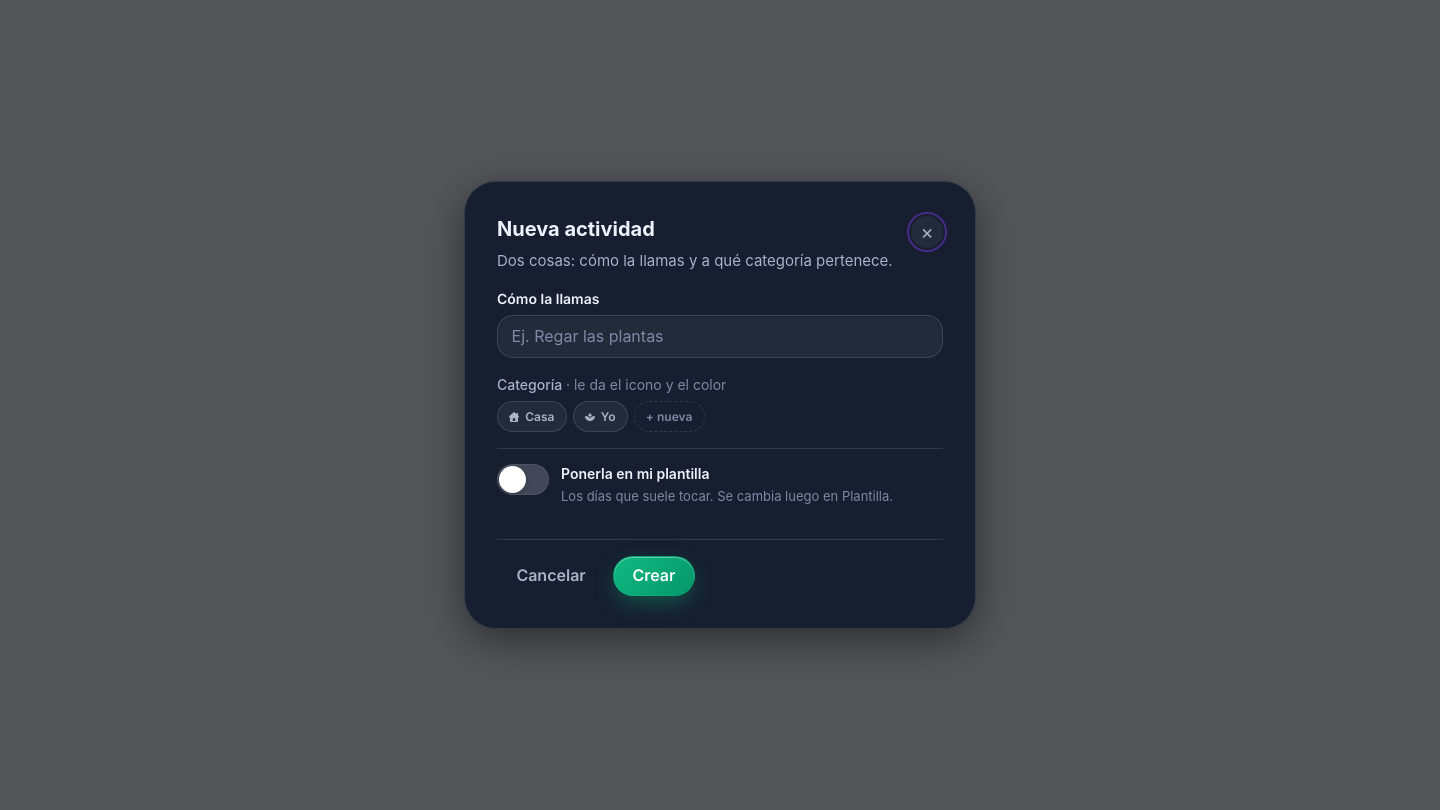
it: VidaActivitySheet › «+ nueva» abre con un color ya puesto que ninguna categoría usa (criterios 516 y 519)
Click the button "+ nueva" at (669, 417), box [634,401,705,432]
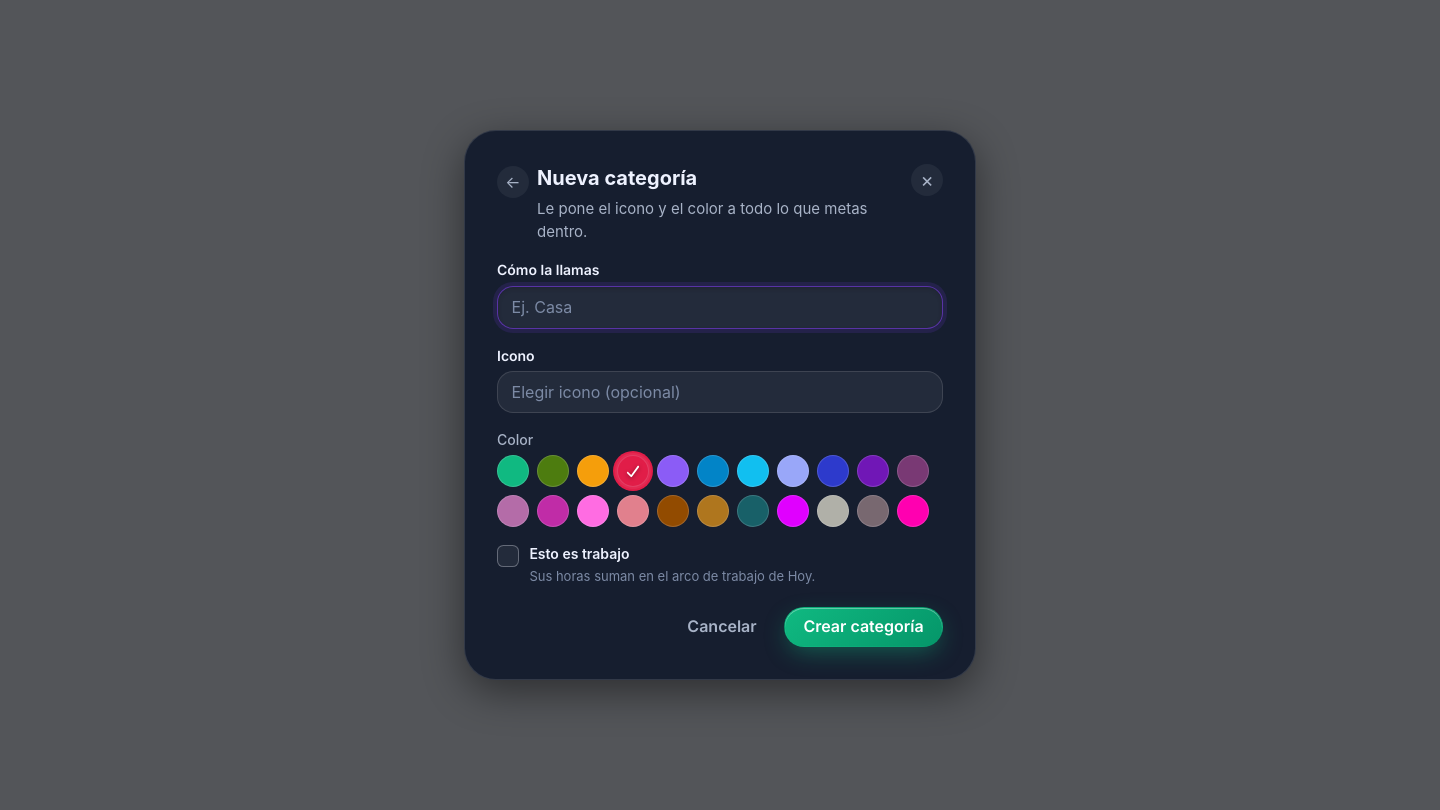
Now the heading "Nueva categoría" is shown, box [537,166,697,190]
Now the element named "Color de la categoría" is shown, box [497,455,943,527]
